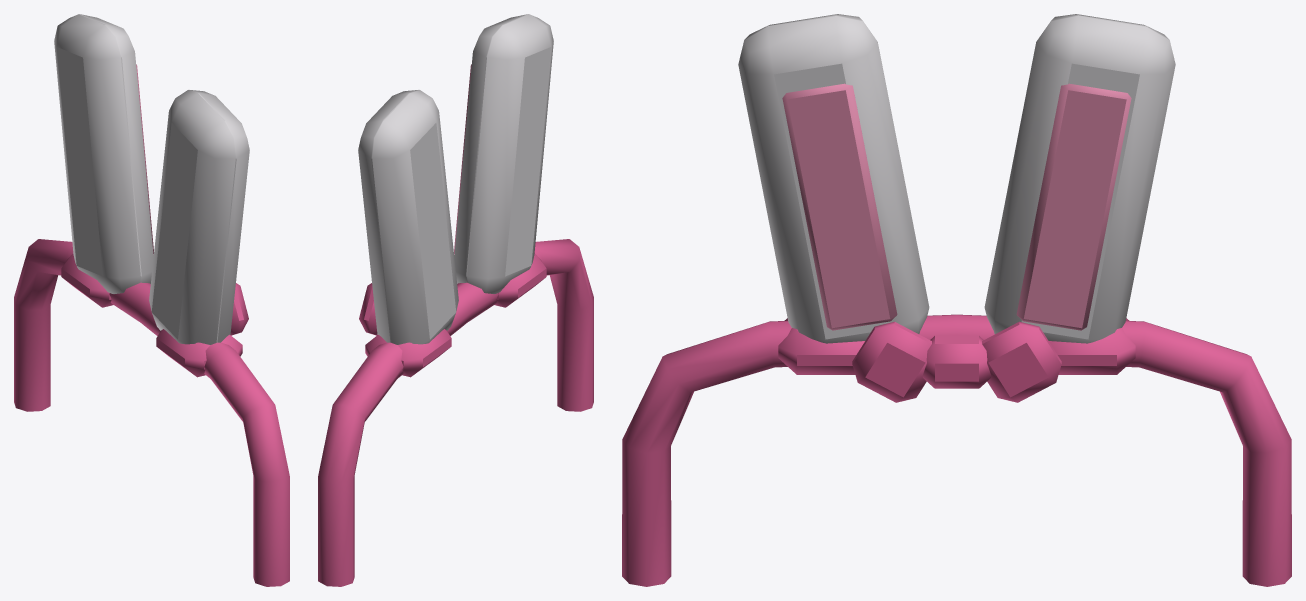
File: hat-bunny_ears.glb
3 views of the same model, side by side, from view 1: azimuth 30°, elevation 25°; view 2: azimuth 150°, elevation 25°; view 3: azimuth 270°, elevation 25° (orthographic). The views are drawn at different scales.
Parts seen in each view (by area): view 1: Hat; view 2: Hat; view 3: Hat.
Boxes of the visible parts, x1=… form: Hat: x1=14, y1=14, x2=289, y2=586; Hat: x1=318, y1=14, x2=593, y2=586; Hat: x1=622, y1=14, x2=1291, y2=586.
Size of the model in its own units: 0.115 by 0.5026 by 0.544.
